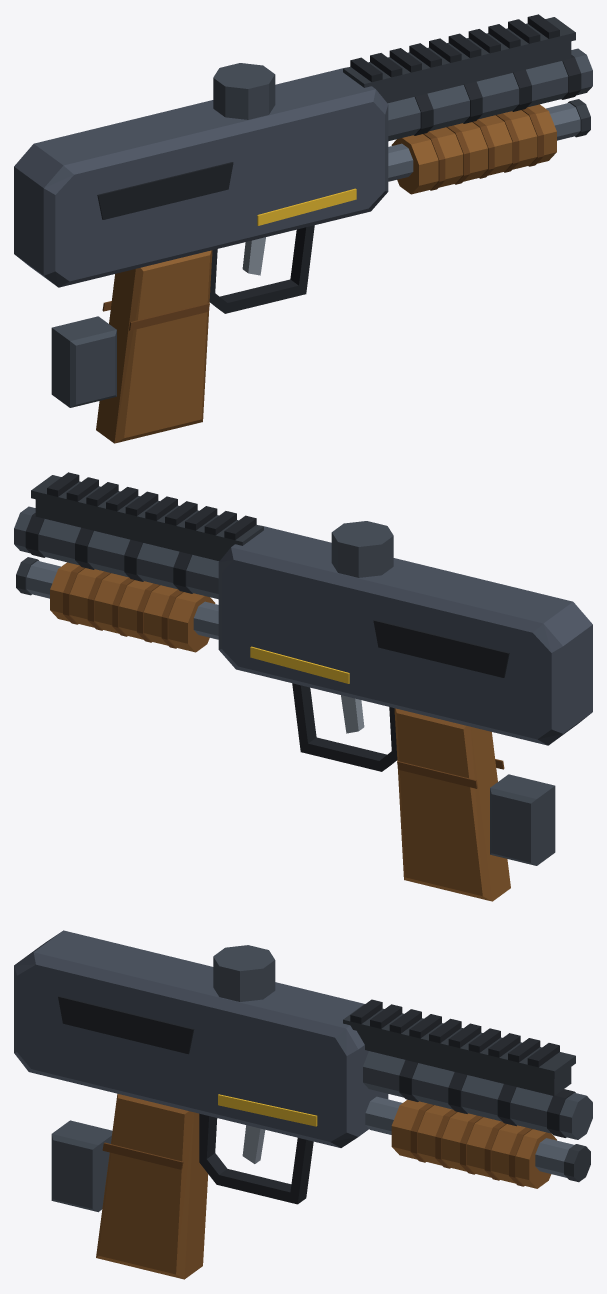
File: shotgun.glb
3 views of the same model, one above another, from view 1: azimuth 30°, elevation 25°; view 2: azimuth 150°, elevation 25°; view 3: azimuth 330°, elevation 25° (orthographic).
Visible parts, largest first — view 1: shotgun_body; view 2: shotgun_body; view 3: shotgun_body.
Boxes of the visible parts, x1,y1,x2,y2 form: shotgun_body: (14, 14, 592, 443); shotgun_body: (14, 472, 592, 901); shotgun_body: (14, 930, 592, 1279).
Size of the model in its own units: 0.45 by 0.254 by 0.0567.
